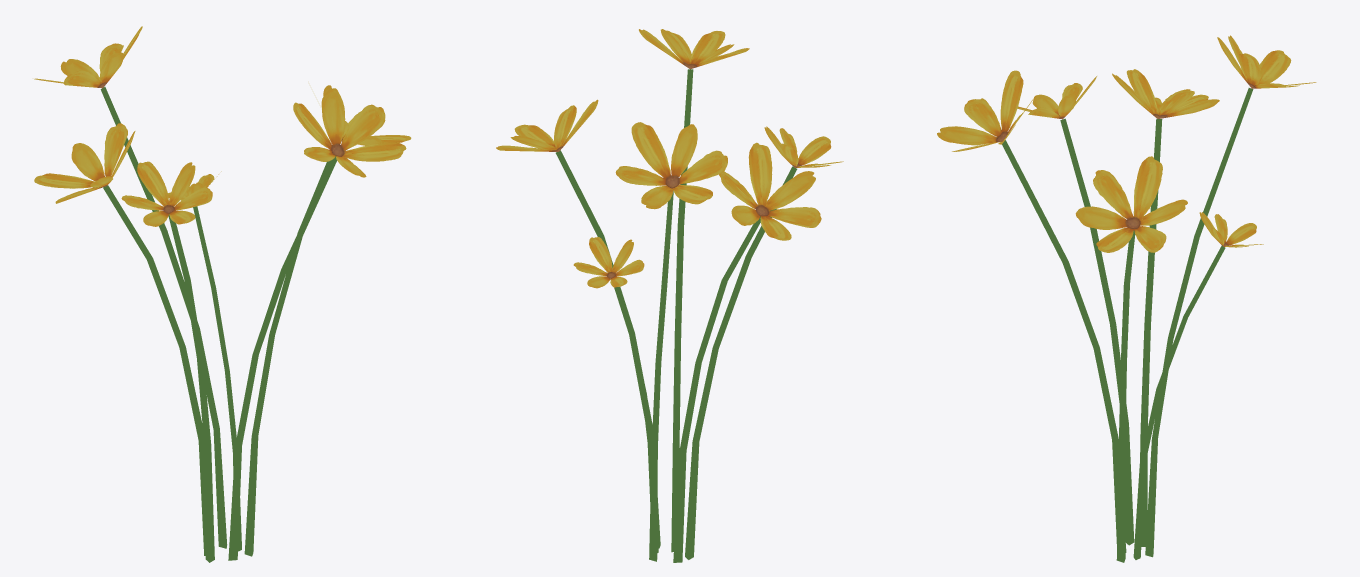
The model's file is SM_Flower_04_02.fbx.
3 views of the same model, side by side, from view 1: azimuth 30°, elevation 25°; view 2: azimuth 150°, elevation 25°; view 3: azimuth 270°, elevation 25° (orthographic). The views are drawn at different scales.
Parts seen in each view (by area): view 1: SM_Flower_04_02_LOD0; view 2: SM_Flower_04_02_LOD0; view 3: SM_Flower_04_02_LOD0.
Boxes of the visible parts, x1=… form: SM_Flower_04_02_LOD0: x1=34, y1=26, x2=411, y2=562; SM_Flower_04_02_LOD0: x1=496, y1=29, x2=843, y2=562; SM_Flower_04_02_LOD0: x1=937, y1=35, x2=1316, y2=562.
Size of what is drawn, in the model's own units: 52.26 by 64.75 by 51.21.
